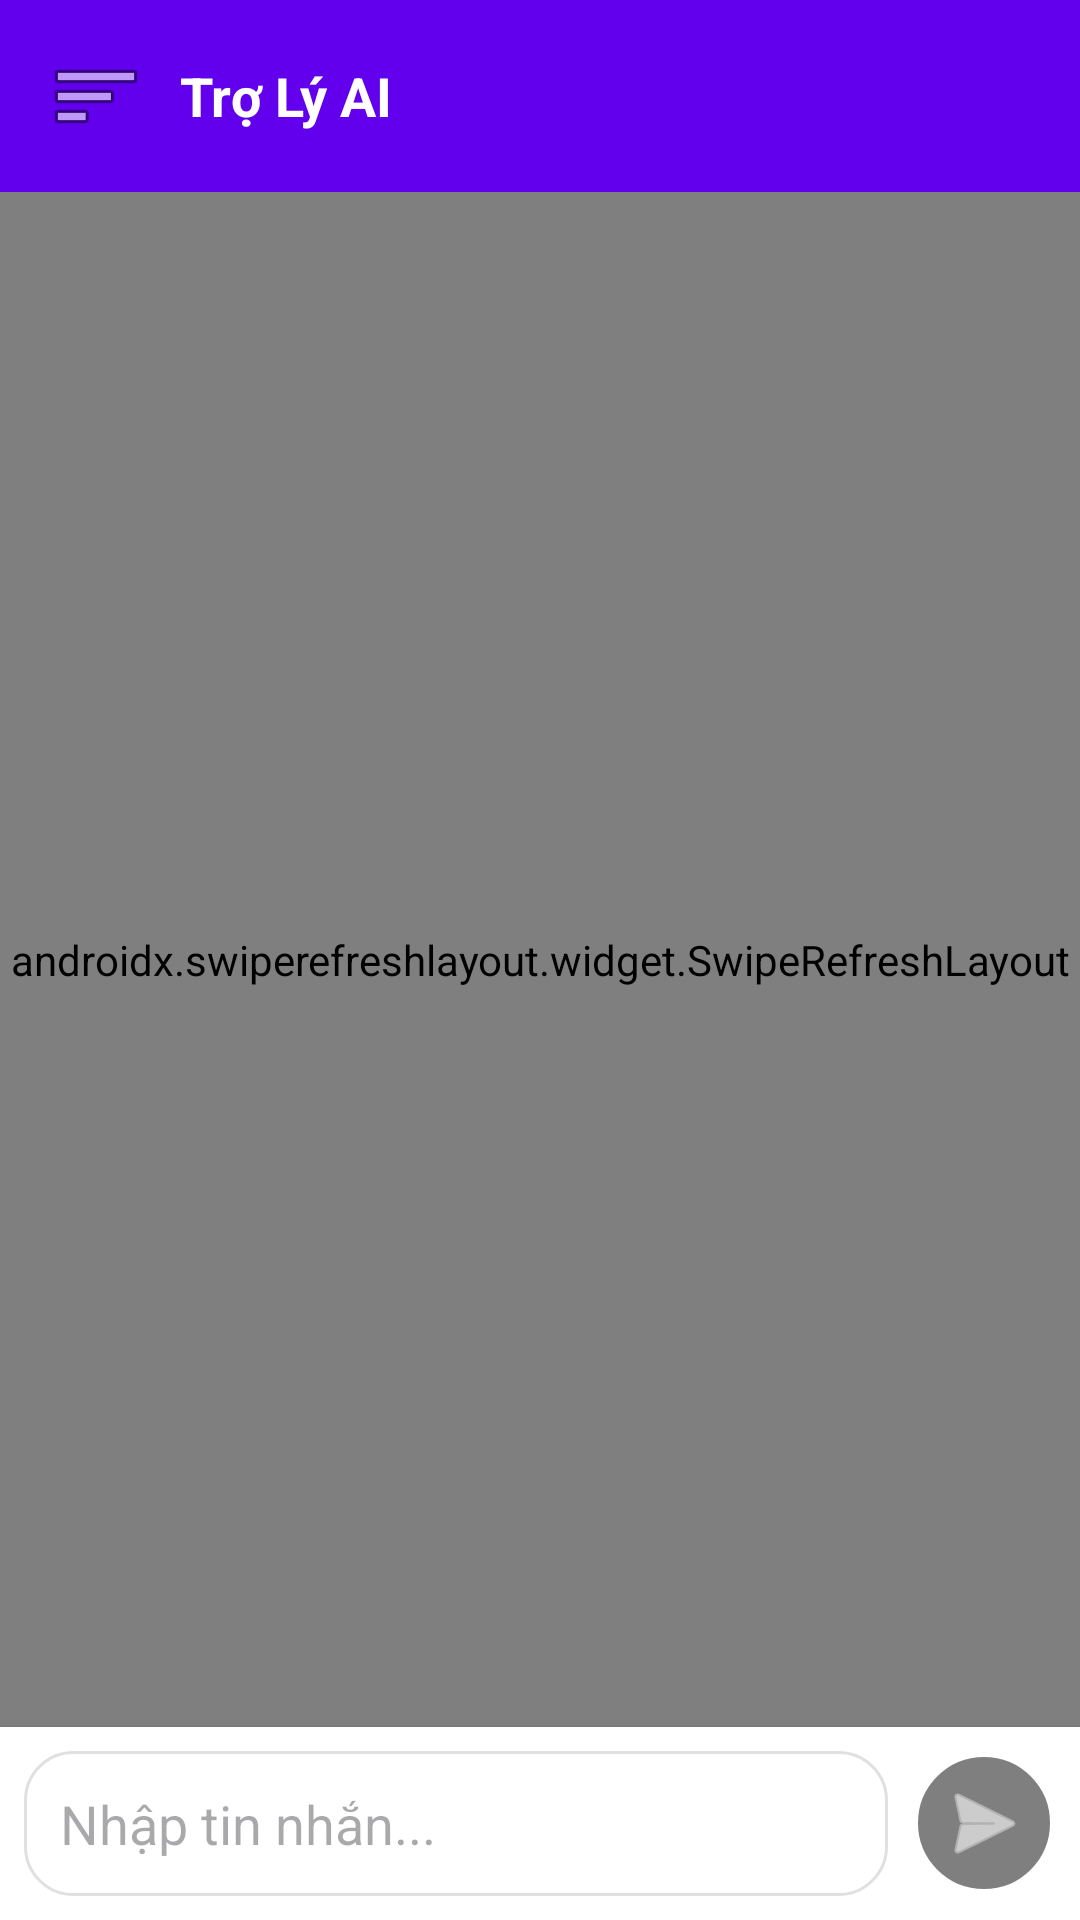

Where icons sit on this 1080w x 1920h app screen, as (x1, y1, x2, y2):
Gửi tin nhắn: (918, 1757, 1050, 1889)
Mở menu: (55, 70, 137, 123)
